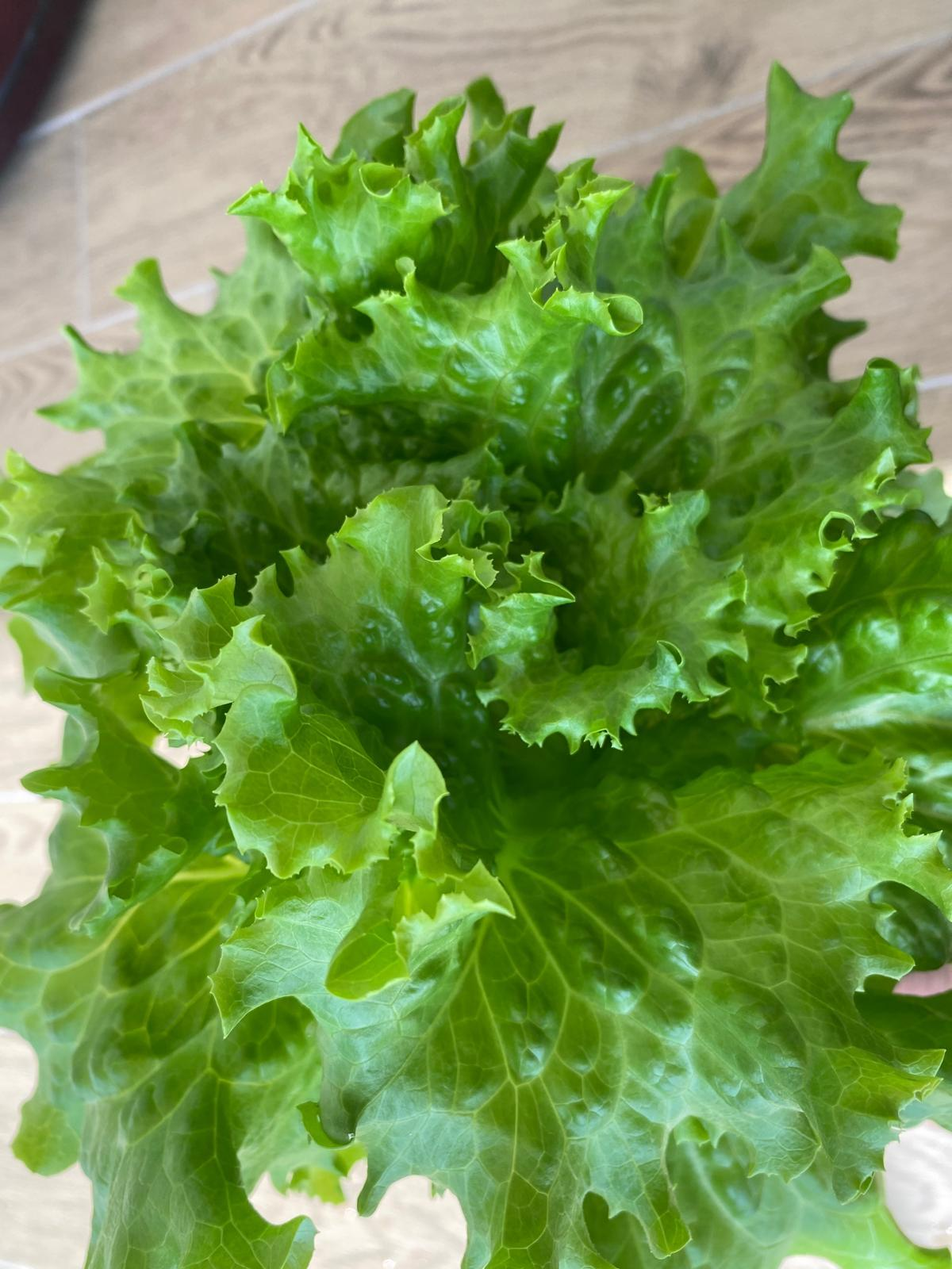Healthy Lettuce: (0, 61, 952, 1269)
